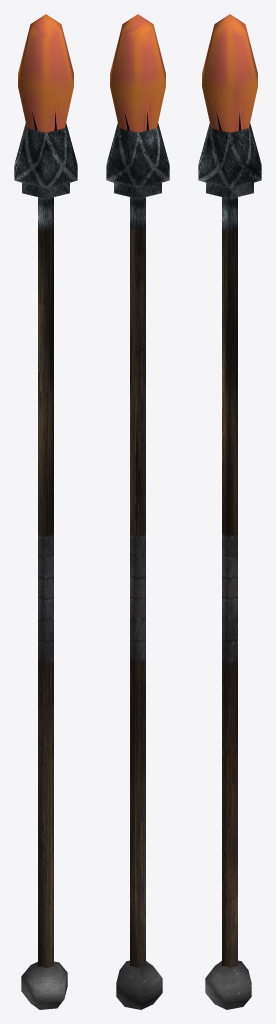
The model's file is elementstaff.FBX.
The picture shows the model from 3 angles, left to right: view 1: azimuth 30°, elevation 25°; view 2: azimuth 210°, elevation 25°; view 3: azimuth 330°, elevation 25°; orthographic projection.
Visible parts, largest first — view 1: polySurface1; view 2: polySurface1; view 3: polySurface1.
Part boxes in pixels (bbox=[...]): polySurface1: bbox=[14, 14, 77, 1009]; polySurface1: bbox=[106, 14, 169, 1009]; polySurface1: bbox=[198, 14, 261, 1009].
Bounding box in the file's own units: 14.02 × 210 × 12.14.
